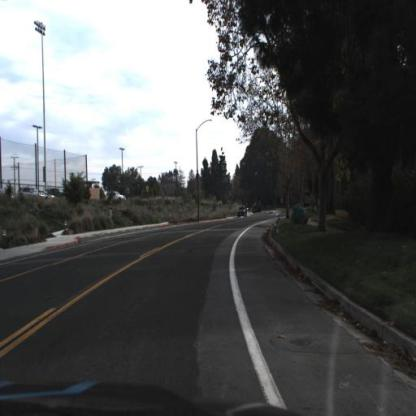car: (18, 184, 46, 205), (235, 200, 251, 221), (237, 205, 249, 219)
